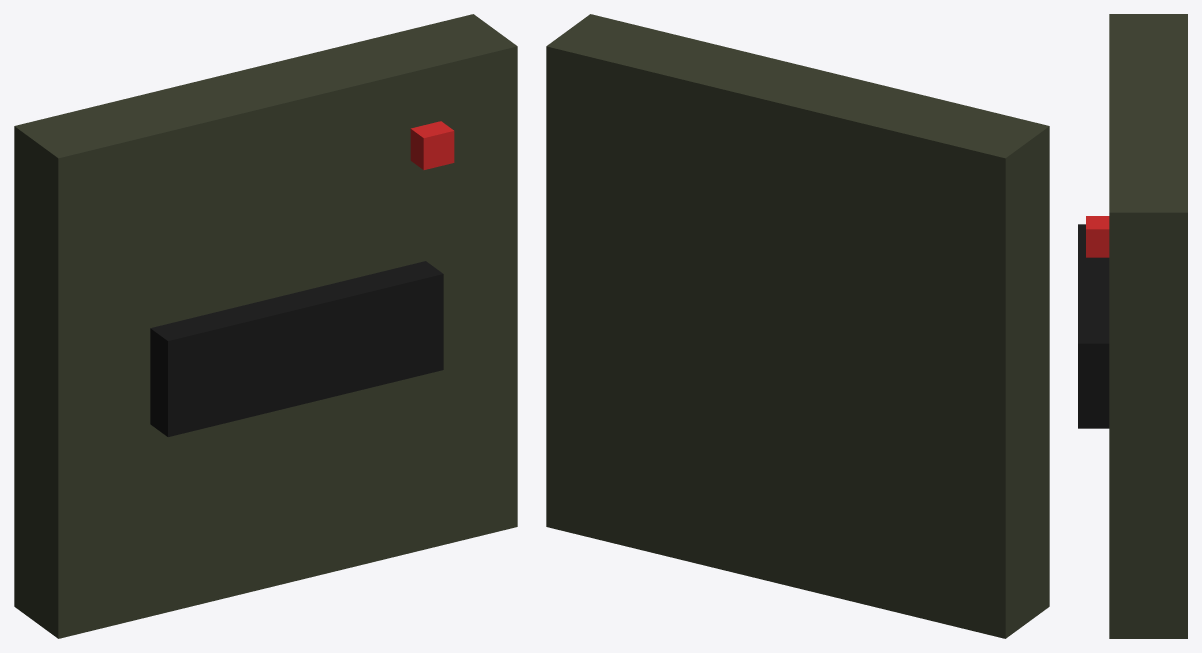
Rendered from g_cluster.glb.
3 renders of one model, left to right at view 1: azimuth 30°, elevation 25°; view 2: azimuth 150°, elevation 25°; view 3: azimuth 270°, elevation 25°, orthographic. The views are drawn at different scales.
Parts seen in each view (by area): view 1: body, body_glow; view 2: body; view 3: body, body_glow.
Boxes of the visible parts, x1=… form: body: x1=14, y1=14, x2=517, y2=638; body_glow: x1=410, y1=121, x2=454, y2=169; body: x1=546, y1=14, x2=1049, y2=638; body: x1=1078, y1=14, x2=1187, y2=638; body_glow: x1=1086, y1=216, x2=1109, y2=257.
Bounding box in the file's own units: 0.3 × 0.3 × 0.07.
